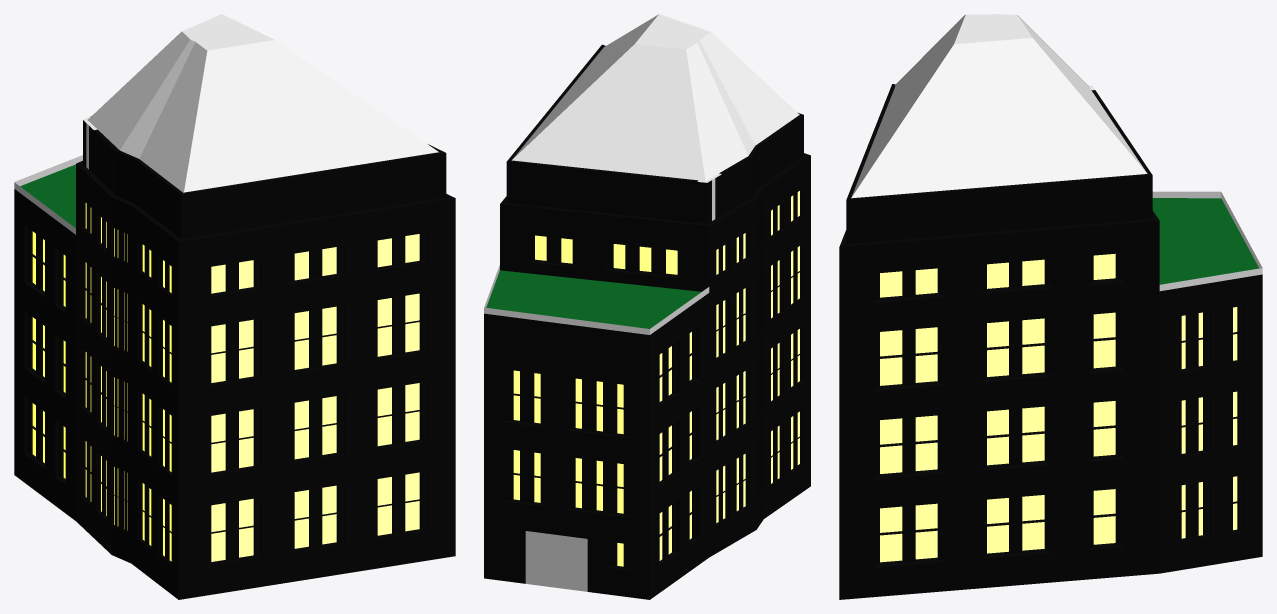
Rendered from montgomery_apartments.fbx.
3 renders of one model, left to right at view 1: azimuth 30°, elevation 25°; view 2: azimuth 150°, elevation 25°; view 3: azimuth 270°, elevation 25°, orthographic. The views are drawn at different scales.
Visible parts, largest first — view 1: Plane; view 2: Plane; view 3: Plane.
Boxes of the visible parts, left/top/right/bottom form: Plane: left=14, top=14, right=455, bottom=599; Plane: left=484, top=14, right=810, bottom=599; Plane: left=839, top=14, right=1262, bottom=599.
Bounding box in the file's own units: 563 × 1055 × 815.
